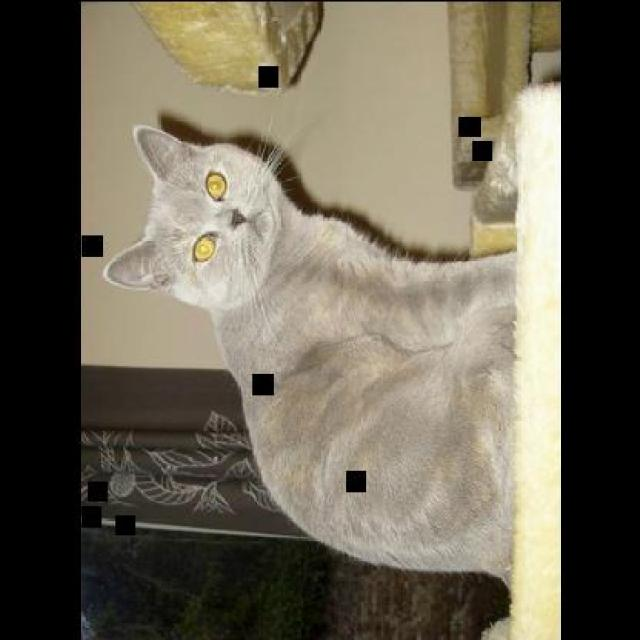unauthorized: (100, 121, 517, 634)
